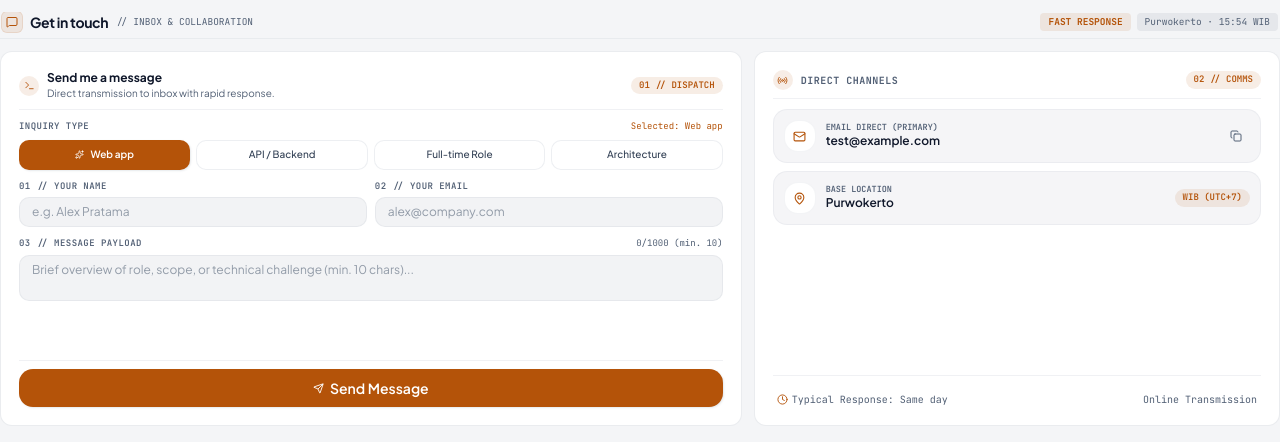
Scenario: ContactSection › shows error feedback when submission fails
Type "Alex Pratama" into the field labelled "01 // Your Name". click: point(193, 212)
box: [19,197,367,227]
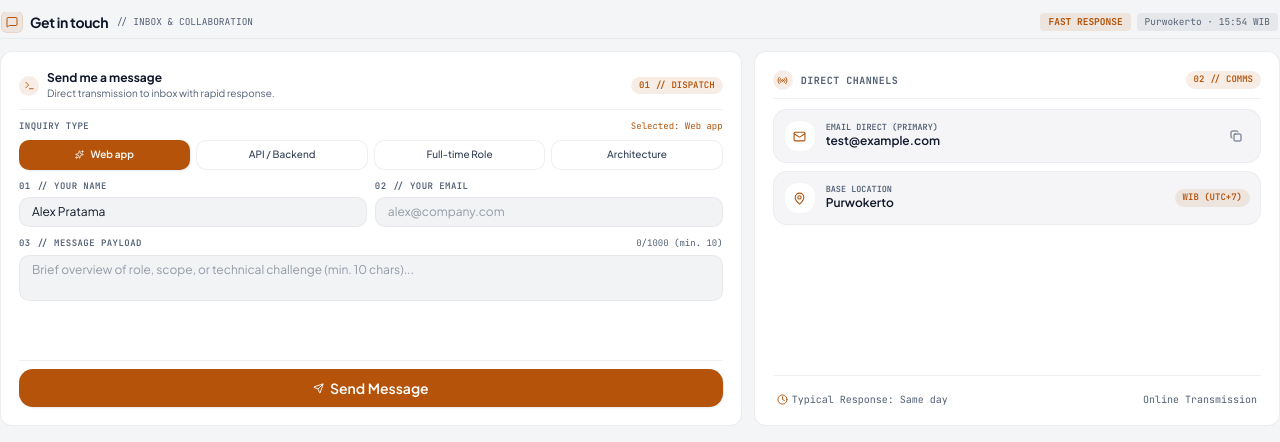
Type "alex@example.com" into the field labelled "02 // Your Email". click: point(549, 212)
box: [375,197,723,227]
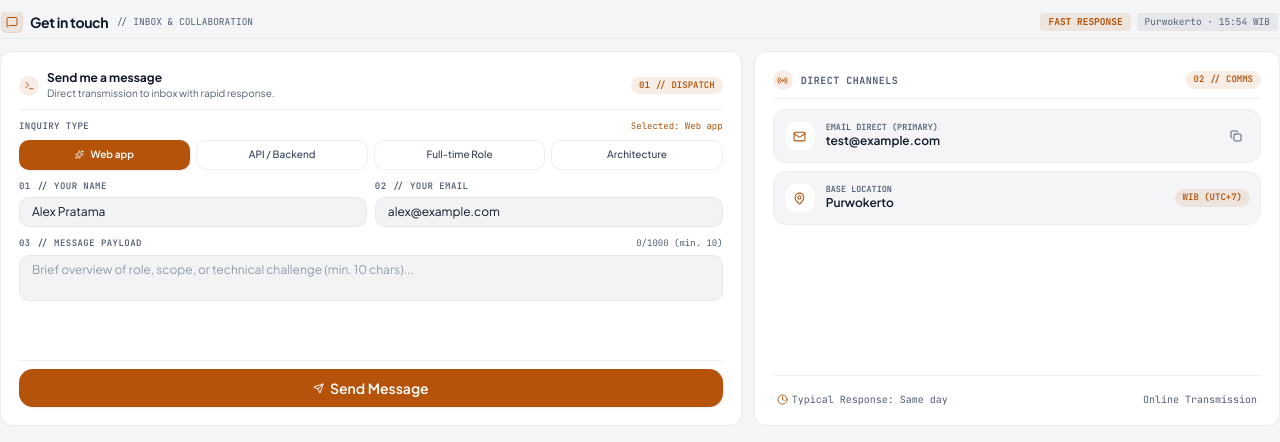
Replace the text in the text box labelled "03 // Message Payload" with "A message longer than 10 characters". click: point(371, 278)
box: [19,254,723,300]
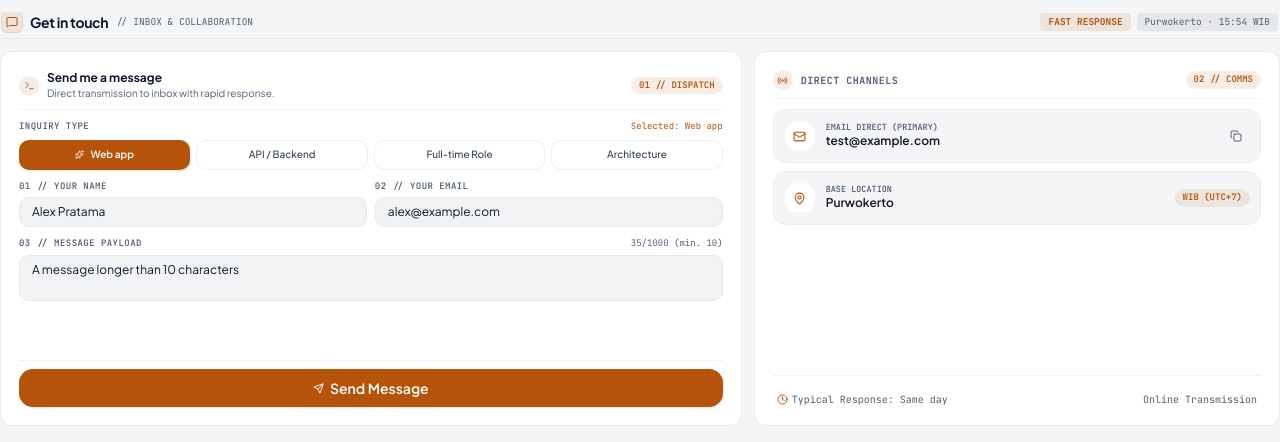
Click the button "Send Message". click: point(371, 388)
box: [19,369,723,407]
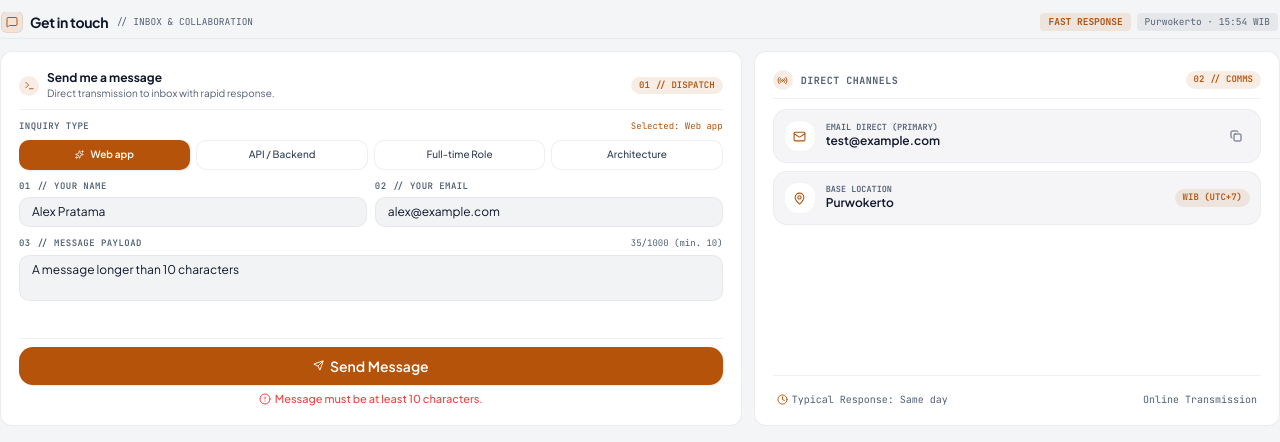
Now the text "Message must be at least 10 characters." is shown, box [275,390,483,407]
